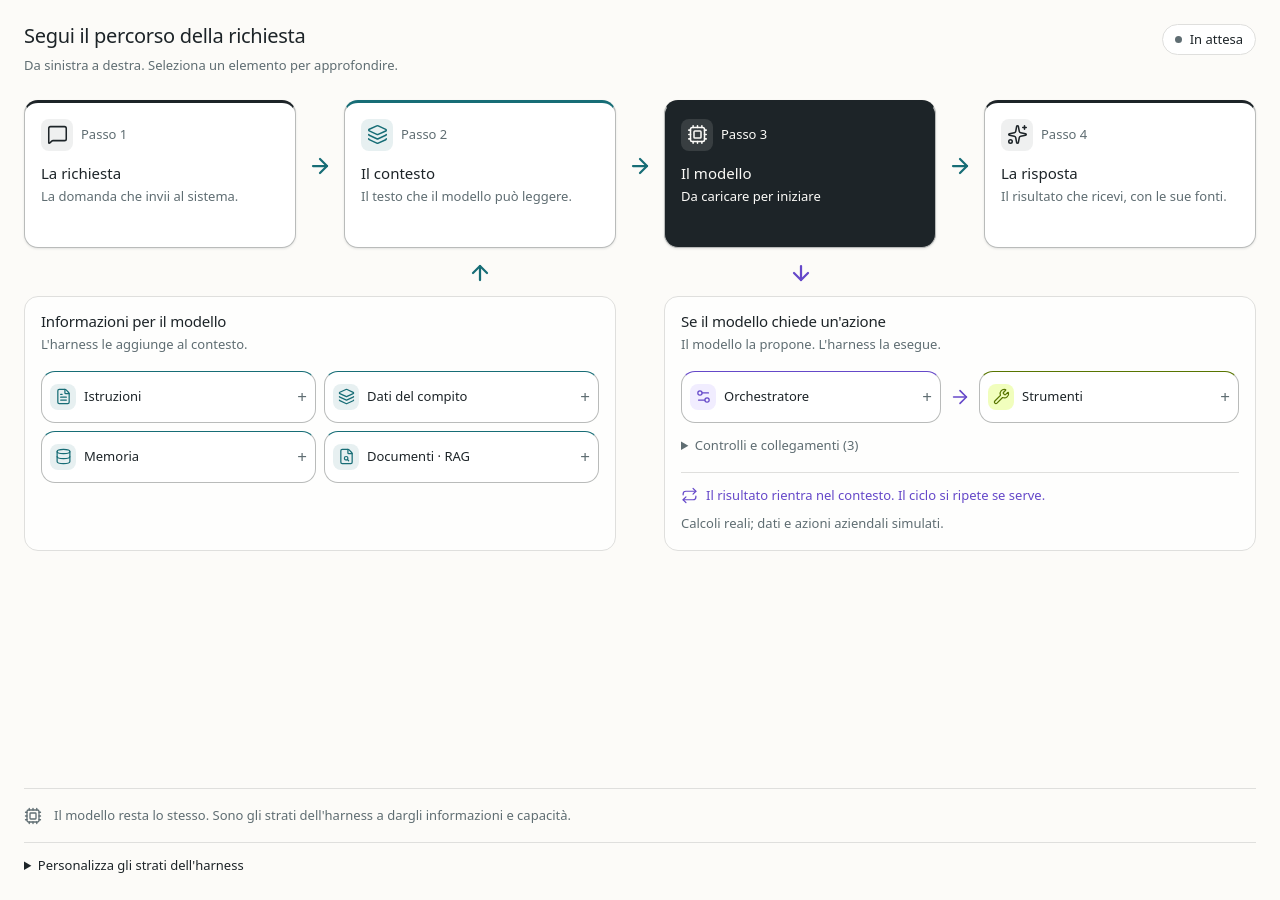
Test: readable request flow › prevents composition changes during a run or a pending approval
Click the heading "Personalizza gli strati dell'harness". click: (141, 865)
box: x1=38 y1=856 x2=244 y2=874
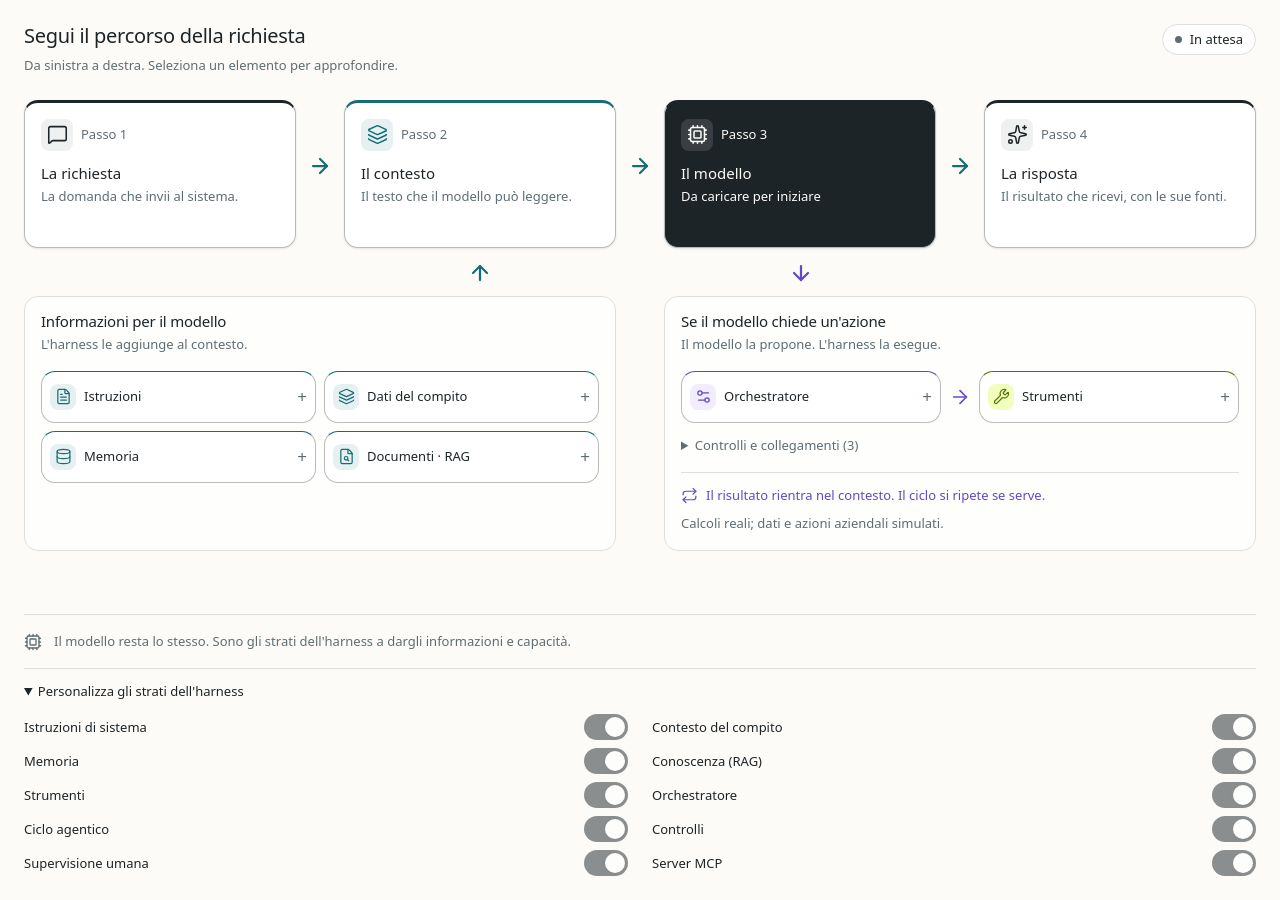
Now the number of switches is 10
